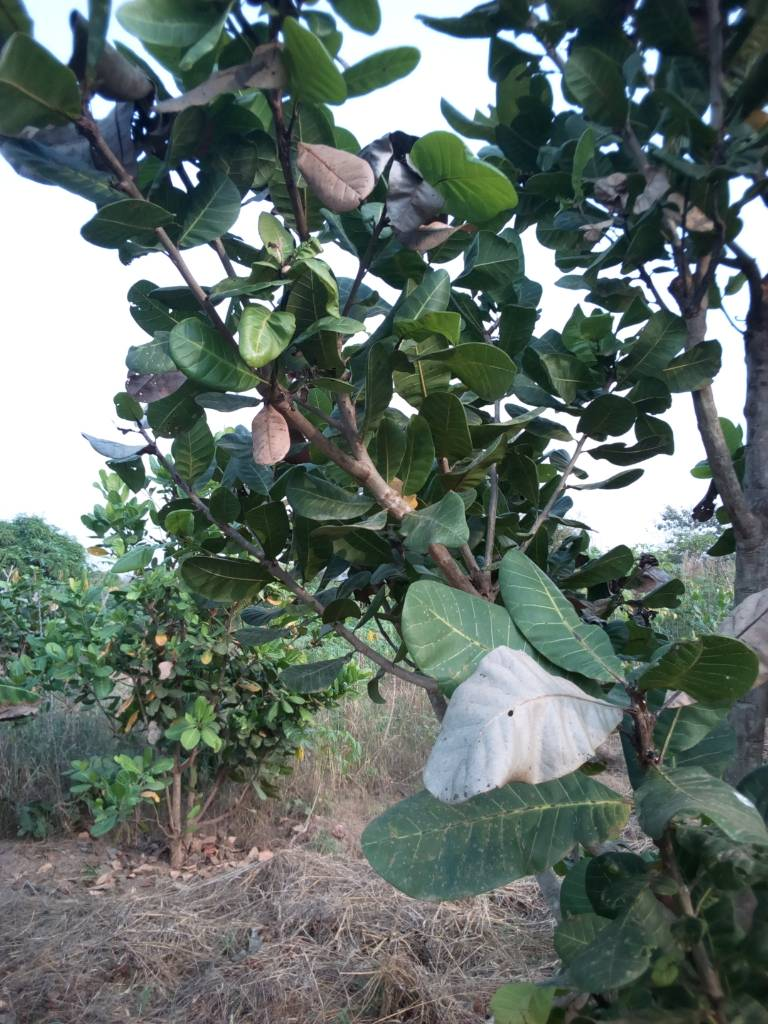Dessèchement des bourgeons: (265, 103, 299, 183), (362, 203, 394, 264)
